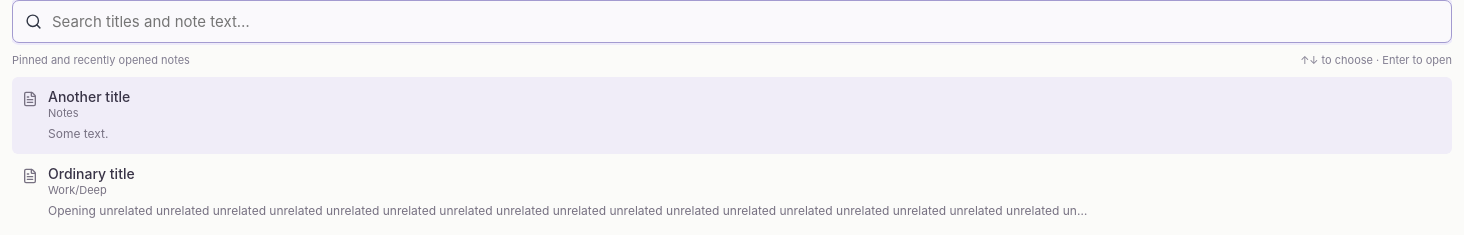
Test: quick note switcher › searches full note bodies, shows their matching excerpt, and opens via Enter
The image size is (1464, 235).
Later steps or results of the test are not shown.
Type "needle token" into the dropdown named "Find a note" at (746, 22), box x1=52 y1=12 x2=1439 y2=31
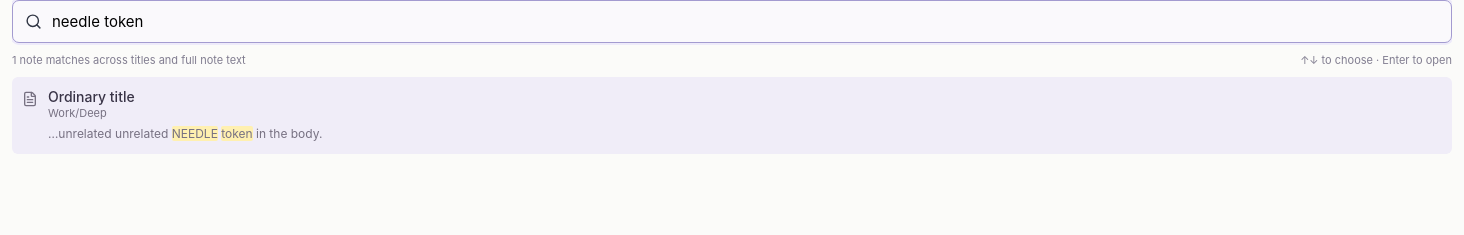
Check: the number of options is 1, box x1=12 y1=77 x2=1452 y2=154
Check: the option shows "NEEDLE token in the body", box x1=12 y1=77 x2=1452 y2=154
Check: the text "NEEDLE" is shown, box x1=172 y1=126 x2=218 y2=141
